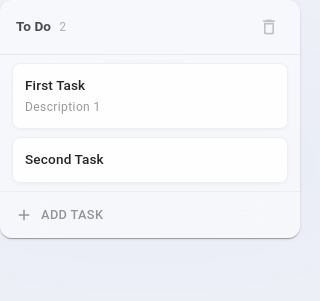
Scenario: KanbanColumn › shows add task form when "Add task" clicked
What coordinates should you click on to do the following:
click the button "Add task"
I would click on:
 (72, 214)
Its box is [12, 200, 288, 230].
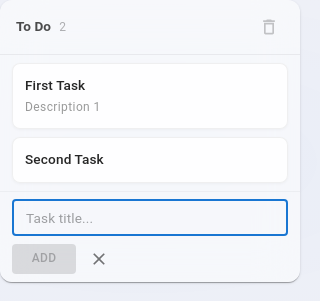
Expected: the button "Add" is shown, [12, 244, 76, 274]
Expected: the field with placeholder "Task title..." is shown, [12, 199, 288, 236]
